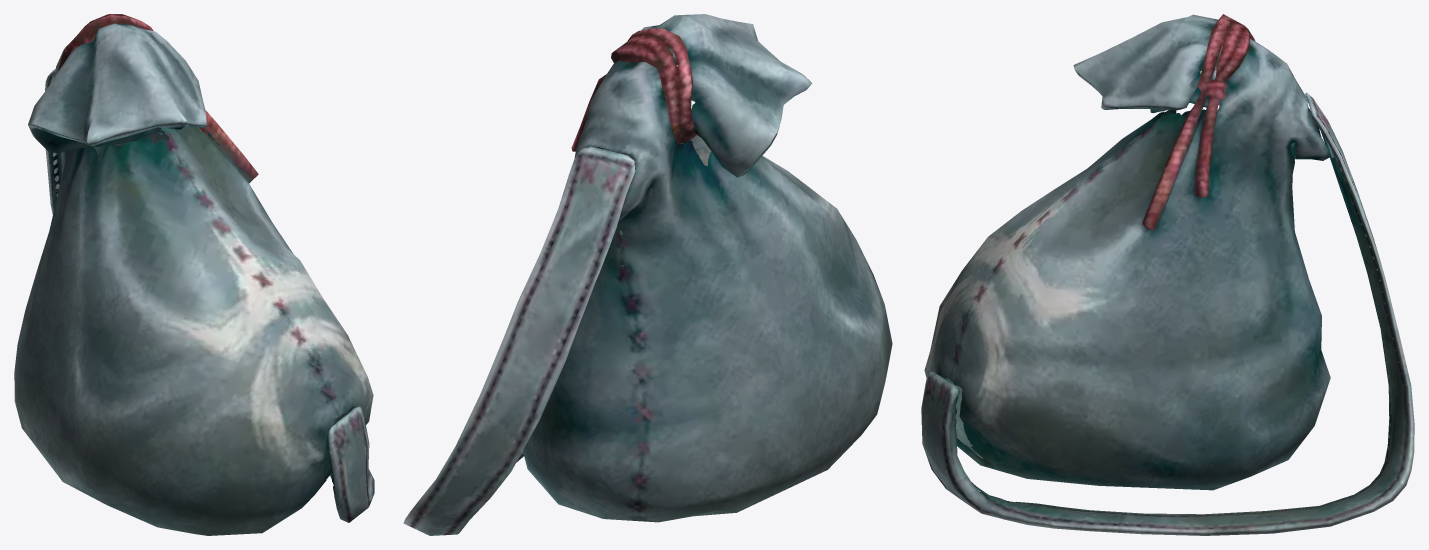
3 views of the same model, side by side, from view 1: azimuth 30°, elevation 25°; view 2: azimuth 150°, elevation 25°; view 3: azimuth 270°, elevation 25° (orthographic). The views are drawn at different scales.
Visible parts, largest first — view 1: SM_Zamorak_Napsack_LOD0; view 2: SM_Zamorak_Napsack_LOD0; view 3: SM_Zamorak_Napsack_LOD0.
Boxes of the visible parts, <box> form: SM_Zamorak_Napsack_LOD0: <box>14,14,374,535</box>; SM_Zamorak_Napsack_LOD0: <box>403,14,892,535</box>; SM_Zamorak_Napsack_LOD0: <box>921,14,1414,535</box>.
Size of the model in its own units: 0.2648 by 0.3751 by 0.3838.
Materials: 1 (1 with a texture image).
